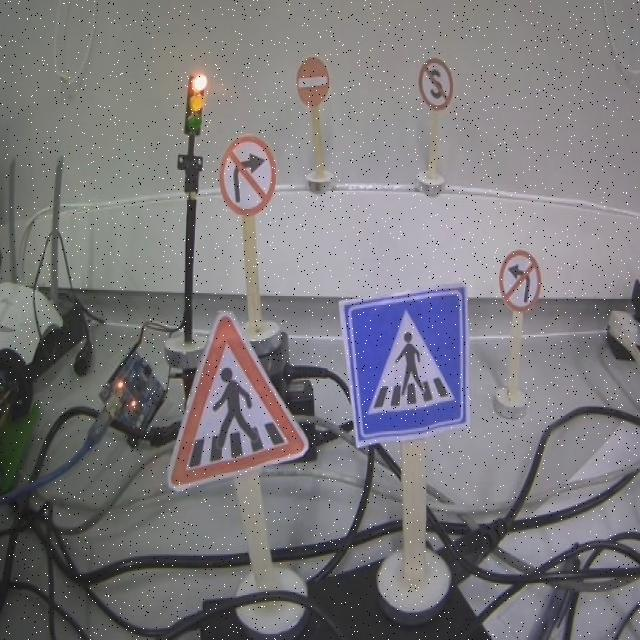Dilarang Belok Kanan: (219, 136, 277, 217)
Dilarang Belok Kiri: (499, 251, 541, 309)
Dilarang Masuk: (296, 57, 329, 107)
Lampu Merah: (185, 72, 206, 134)
Rambu Berhenti: (418, 57, 453, 110)
Rambu Penyebrangan: (168, 314, 306, 488), (339, 283, 471, 447)
